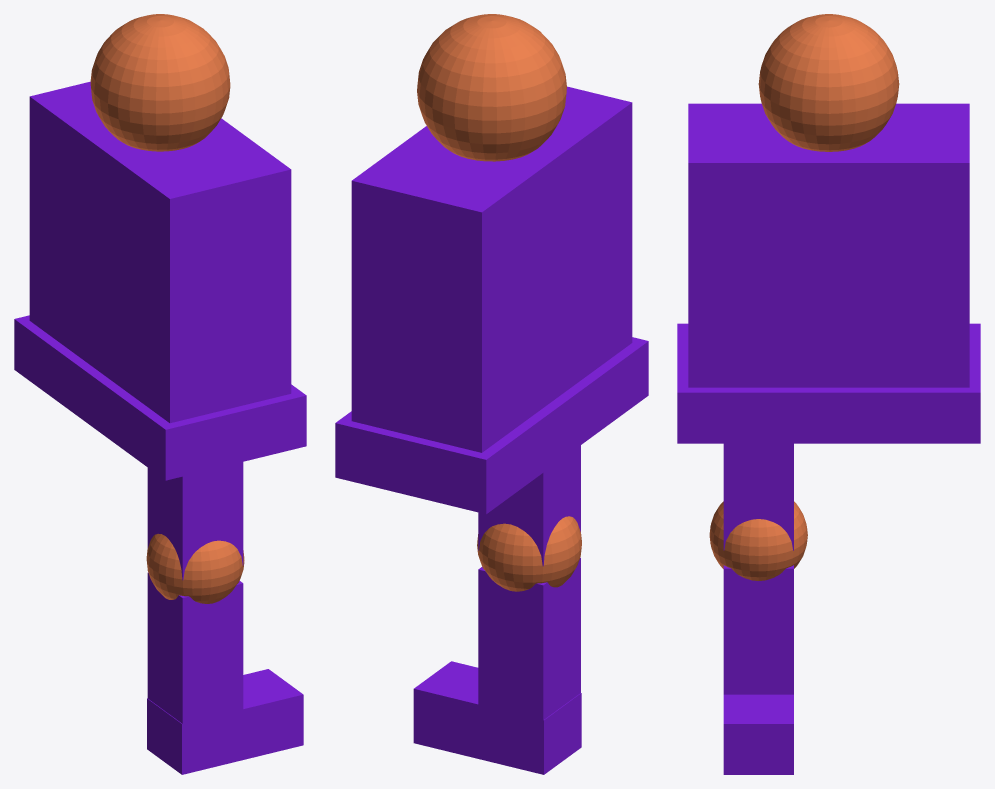
The model's file is Robot.gltf.
The picture shows the model from 3 angles, left to right: view 1: azimuth 30°, elevation 25°; view 2: azimuth 150°, elevation 25°; view 3: azimuth 270°, elevation 25°; orthographic projection. The views are drawn at different scales.
Parts seen in each view (by area): view 1: Body, Center, Head, RightLowerLeg, Cube, RightUpperLeg, RightKnee; view 2: Body, Center, Head, RightLowerLeg, Cube, RightKnee, RightUpperLeg; view 3: Body, Center, Head, RightLowerLeg, RightUpperLeg, Cube, RightKnee.
Part boxes in pixels (x1,y1,x2,y2): Body: (29,81,291,423); Center: (14,315,306,480); Head: (90,14,230,151); RightLowerLeg: (147,572,243,724); Cube: (147,669,303,774); RightUpperLeg: (147,462,243,580); RightKnee: (146,533,244,603); Body: (351,86,632,452); Center: (335,337,648,514); Head: (417,14,566,161); RightLowerLeg: (478,558,580,720); Cube: (413,661,581,774); RightKnee: (477,516,581,591); RightUpperLeg: (478,445,580,566); Body: (688,103,969,387); Center: (677,323,980,443); Head: (758,14,899,151); RightLowerLeg: (723,565,793,694); RightUpperLeg: (723,443,793,550); Cube: (723,694,793,774); RightKnee: (709,501,807,580).
Bounding box in the file's own units: 2.65 × 11.15 × 4.32.
